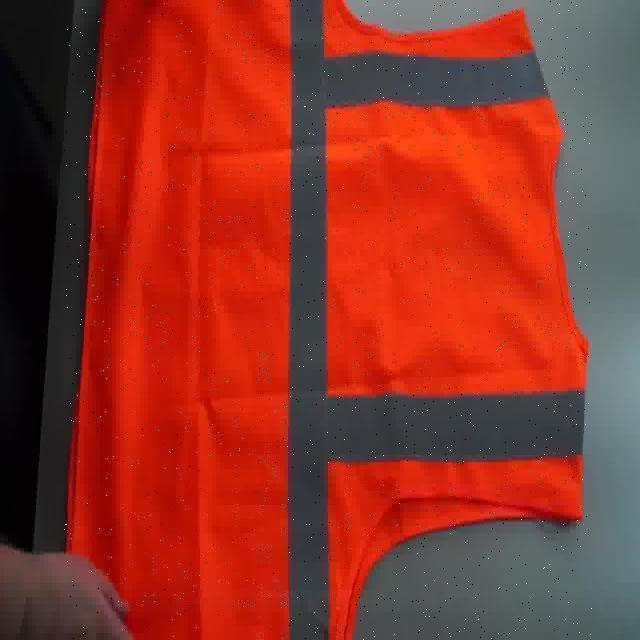safety_vest: (64, 0, 592, 640)
